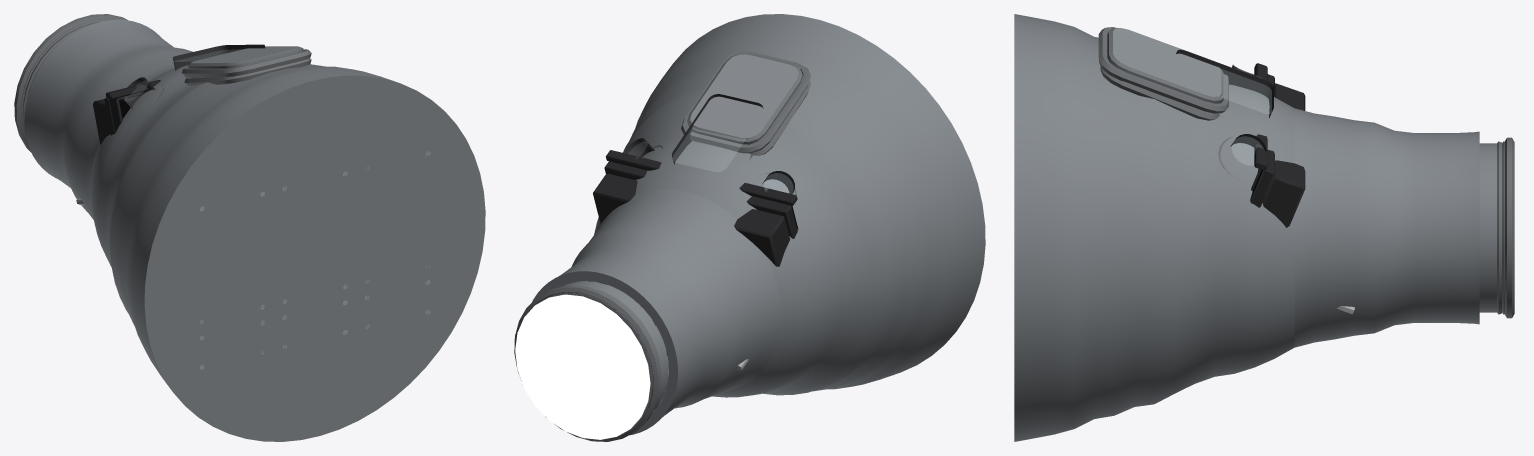
The model's file is gaganyaan.glb.
3 renders of one model, left to right at view 1: azimuth 30°, elevation 25°; view 2: azimuth 150°, elevation 25°; view 3: azimuth 270°, elevation 25°, orthographic. The views are drawn at different scales.
Parts seen in each view (by area): view 1: shell_cupola, shell_panoramic, door_inward, panel, hatchframe_top, hatchframe_inward, docking, hatchframe_side, frame_panoramic0; view 2: shell_cupola, shell_panoramic, plug_top, door_inward, panel, hatchframe_top, glass_panoramic0, hatchframe_inward, docking, dock_cap, frame_panoramic0, hatchframe_side; view 3: shell_cupola, shell_panoramic, door_inward, docking, panel, hatchframe_top, hatchframe_inward, glass_panoramic0, frame_panoramic0, hatchframe_side, glass_small0.
Part boxes in pixels (left/top/right/bottom): shell_cupola: left=91, top=64, right=485, bottom=441; shell_panoramic: left=24, top=19, right=192, bottom=219; door_inward: left=188, top=46, right=303, bottom=68; panel: left=76, top=80, right=160, bottom=204; hatchframe_top: left=14, top=14, right=127, bottom=152; hatchframe_inward: left=181, top=49, right=311, bottom=77; docking: left=21, top=20, right=110, bottom=135; hatchframe_side: left=184, top=58, right=311, bottom=85; frame_panoramic0: left=173, top=44, right=265, bottom=77; shell_cupola: left=594, top=14, right=985, bottom=397; shell_panoramic: left=532, top=153, right=781, bottom=435; plug_top: left=515, top=294, right=650, bottom=439; door_inward: left=687, top=53, right=802, bottom=144; panel: left=593, top=150, right=798, bottom=370; hatchframe_top: left=514, top=285, right=660, bottom=441; glass_panoramic0: left=673, top=127, right=745, bottom=171; hatchframe_inward: left=681, top=51, right=810, bottom=153; docking: left=548, top=281, right=668, bottom=427; dock_cap: left=539, top=292, right=652, bottom=430; frame_panoramic0: left=671, top=94, right=763, bottom=164; hatchframe_side: left=749, top=81, right=810, bottom=155; shell_cupola: left=1014, top=14, right=1294, bottom=441; shell_panoramic: left=1219, top=100, right=1479, bottom=347; door_inward: left=1107, top=28, right=1223, bottom=103; docking: left=1479, top=141, right=1504, bottom=314; panel: left=1250, top=63, right=1354, bottom=313; hatchframe_top: left=1504, top=137, right=1514, bottom=318; hatchframe_inward: left=1098, top=27, right=1228, bottom=113; glass_panoramic0: left=1221, top=69, right=1271, bottom=113; frame_panoramic0: left=1176, top=49, right=1273, bottom=118; hatchframe_side: left=1100, top=66, right=1219, bottom=120; glass_small0: left=1232, top=137, right=1262, bottom=164.
Size of the model in its own units: 1.71 by 1.71 by 2.02.
Materials: 29 (1 with a texture image).
